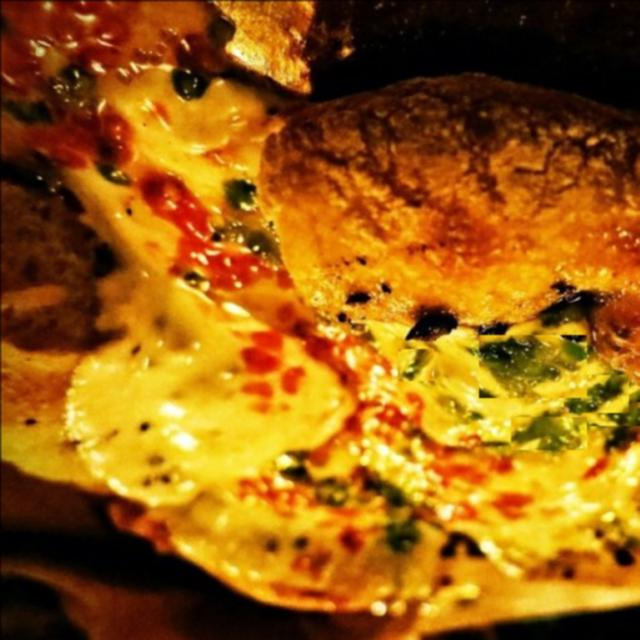basil: (478, 332, 586, 397), (510, 416, 586, 449), (563, 374, 628, 412), (428, 397, 483, 423), (586, 401, 639, 425), (397, 348, 433, 380)
pizza: (0, 0, 640, 614)
